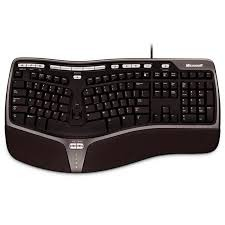keyboard: (4, 48, 222, 175)
